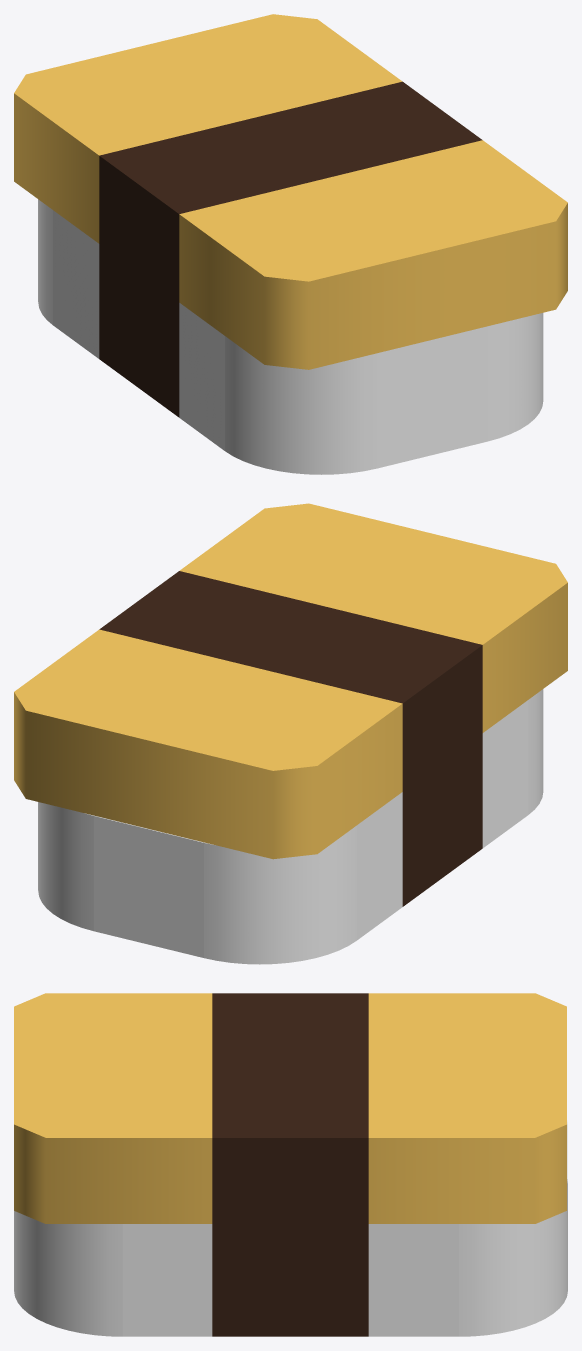
Rendered from Sushi Egg.glb.
3 views of the same model, one above another, from view 1: azimuth 30°, elevation 25°; view 2: azimuth 150°, elevation 25°; view 3: azimuth 270°, elevation 25° (orthographic). The views are drawn at different scales.
Parts seen in each view (by area): view 1: egg, sushiEgg; view 2: egg, sushiEgg; view 3: egg, sushiEgg.
Boxes of the visible parts, box(x1,y1,x2,y2) form: egg: box(14, 14, 567, 369); sushiEgg: box(38, 199, 543, 474); egg: box(14, 503, 567, 859); sushiEgg: box(38, 689, 543, 964); egg: box(14, 993, 566, 1223); sushiEgg: box(14, 1120, 567, 1336).
Size of the model in its own units: 0.1079 by 0.0692 by 0.1746.
